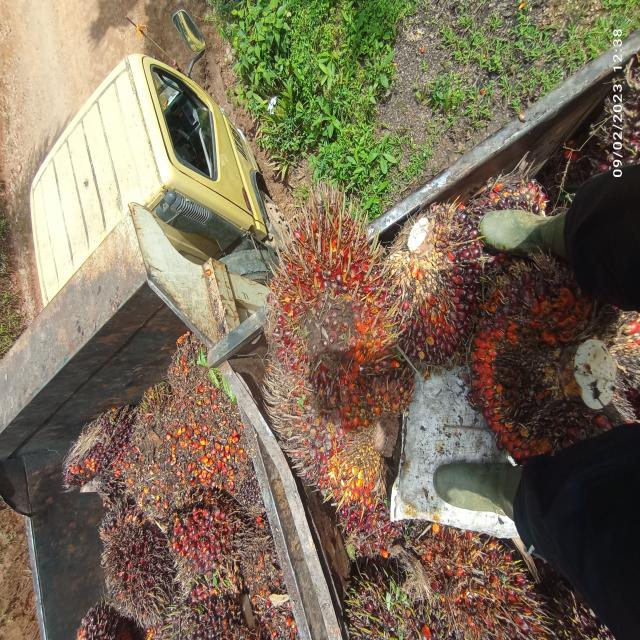fraksi 1: (379, 194, 487, 378), (57, 395, 145, 501)
fraksi 3: (470, 217, 623, 476), (250, 349, 423, 532), (164, 499, 243, 572)
fraksi 4: (270, 177, 400, 386), (98, 517, 177, 624)
